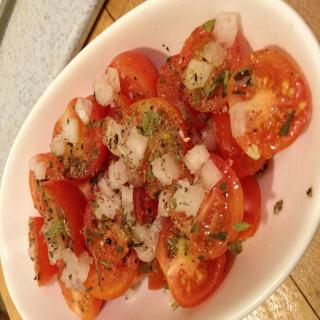Salad: (26, 7, 310, 320)
Tomato: (226, 47, 310, 158), (167, 155, 244, 260), (157, 218, 225, 308), (176, 24, 242, 109), (51, 96, 110, 178), (210, 104, 266, 180), (42, 178, 88, 256), (55, 255, 106, 319), (103, 49, 161, 102), (84, 245, 140, 299), (27, 215, 60, 285), (30, 151, 55, 219), (239, 174, 262, 238), (160, 55, 182, 109)
